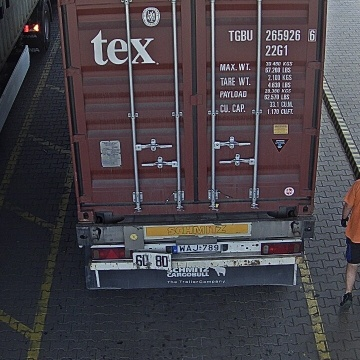serial_id: (228, 29, 316, 41)
